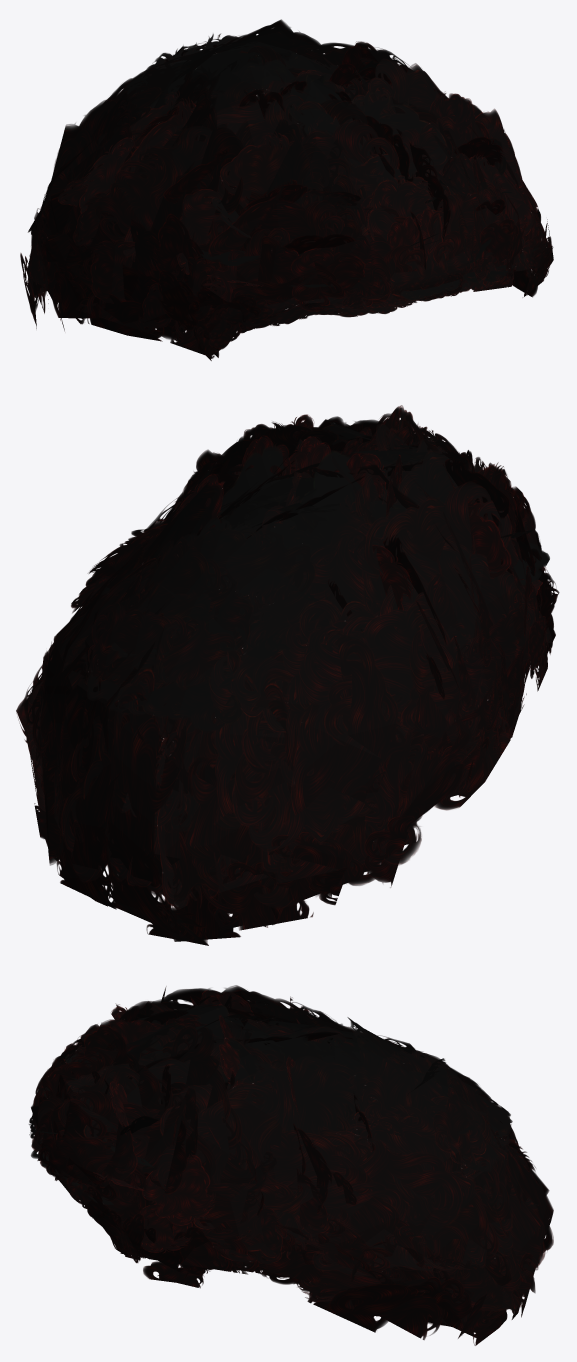
Rendered from Oblong_Curly_LowTapper1.glb.
3 renders of one model, top to bottom at view 1: azimuth 30°, elevation 25°; view 2: azimuth 150°, elevation 25°; view 3: azimuth 270°, elevation 25°, orthographic. The views are drawn at different scales.
Parts seen in each view (by area): view 1: SKEL_ROOT; view 2: SKEL_ROOT; view 3: SKEL_ROOT.
Boxes of the visible parts, left/top/right/bottom form: SKEL_ROOT: left=20, top=19, right=553, bottom=360; SKEL_ROOT: left=16, top=405, right=559, bottom=945; SKEL_ROOT: left=29, top=985, right=553, bottom=1345.
Size of the model in its own units: 0.1673 by 0.1423 by 0.2218.
1 material, 1 textured.
